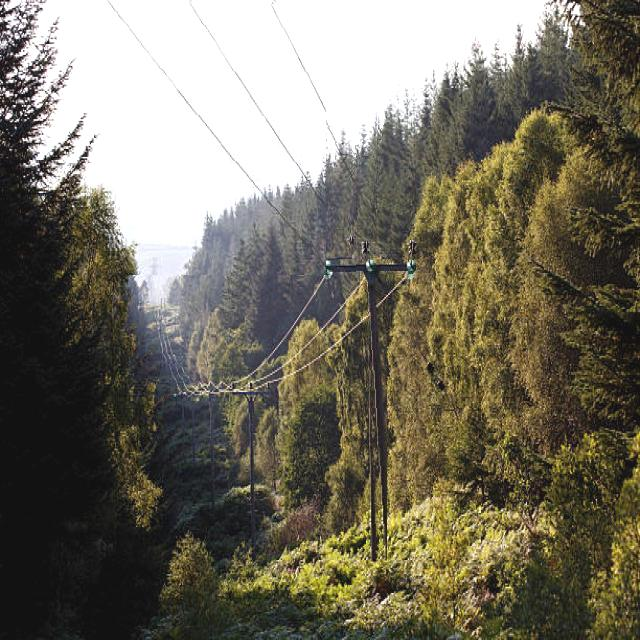crossarm: (322, 260, 417, 276)
pole: (363, 263, 387, 567)
wire: (105, 0, 326, 273), (186, 0, 359, 261), (269, 2, 395, 242)
